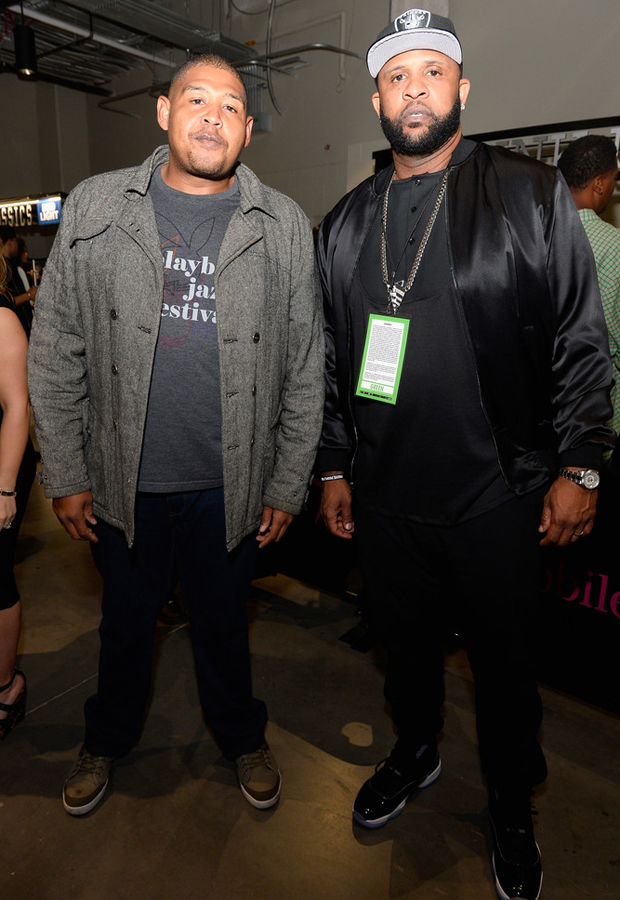Person: (315, 16, 582, 883), (27, 37, 285, 795)
